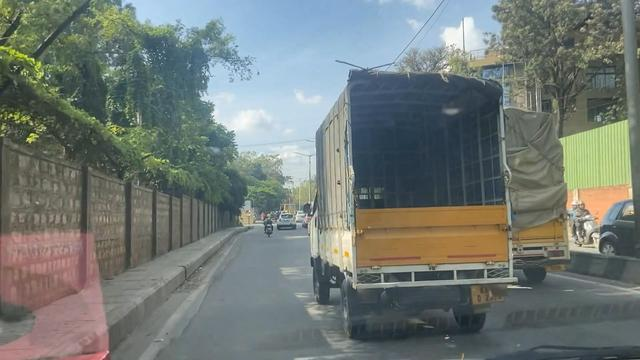HMV: (301, 43, 523, 348)
